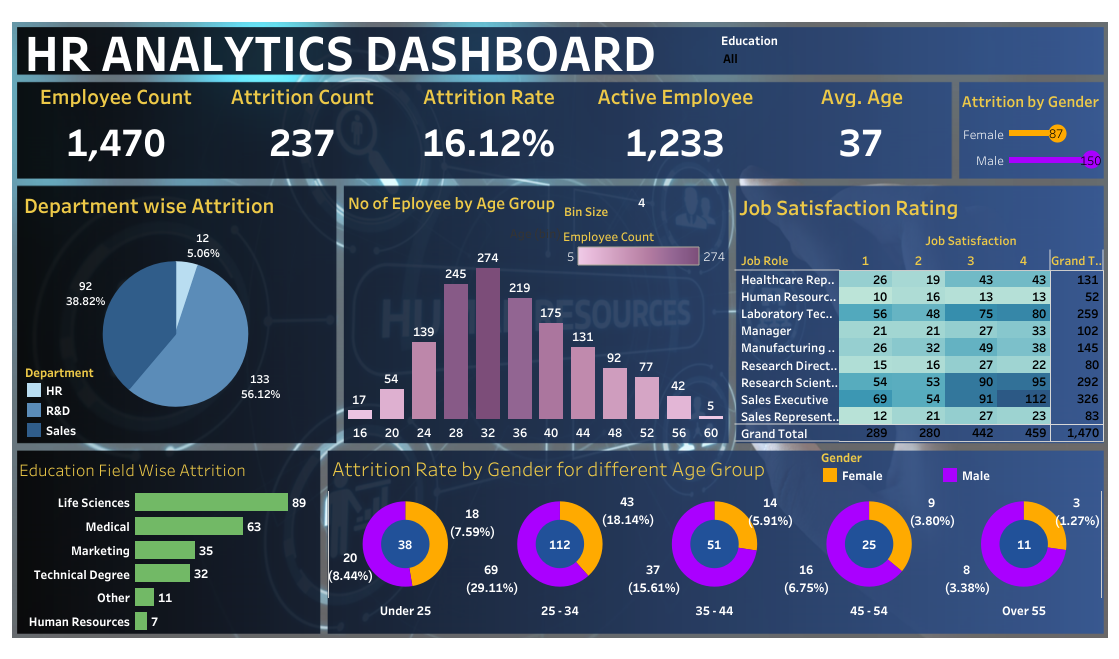

The page's visual inventory and layout, read from the dashboard file:
{"tool":"tableau","page":{"name":"HR ANALYSTICS DASHBOARD","canvas":[1000,1000],"units":"permille","ordinal":0},"visuals":[{"type":"image","param":"Image/HR background1.png","box":[7.1,12.1,985.7,975.8]},{"type":"text","box":[19.6,40.9,667.9,71.2]},{"type":"filter","title":"Department wise Attrition","param":"[federated.1485bsa0e8imti17utrk317bn2pd].[none:Education:nk]","box":[643.8,45.5,148.2,59.1]},{"type":"worksheet","title":"Attrition by Gender","mark":"Automatic","rows":["Gender"],"cols":["Calculation_531706296275054592","Calculation_531706296275054592"],"box":[854.5,127.3,132.1,134.8]},{"type":"worksheet","title":"KPI","mark":"Automatic","box":[20.5,130.3,832.1,136.4]},{"type":"worksheet","title":"Department wise Attrition","mark":"Pie","box":[17.6,280.3,278.3,386.4]},{"type":"worksheet","title":"No of Eployee by Age Group","mark":"Automatic","rows":["Employee Count"],"cols":["Age (bin)"],"box":[307.1,280.3,342,387.9]},{"type":"worksheet","title":"Job Satisfaction Rating","mark":"Square","rows":["Job Role"],"cols":["Job Satisfaction"],"box":[656.2,283.3,329.5,386.4]},{"type":"parameter","param":"[Parameters].[Parameter 1]","box":[503.6,292.4,145.5,53]},{"type":"legend","title":"No of Eployee by Age Group","param":"[federated.1485bsa0e8imti17utrk317bn2pd].[sum:Employee Count:qk]","box":[502.7,337.9,149.1,115.2]},{"type":"legend","title":"Department wise Attrition","param":"[federated.1485bsa0e8imti17utrk317bn2pd].[none:Department:nk]","box":[21.1,547,122.9,118.2]},{"type":"legend","title":"Attrition Rate by Gender for different Age Group","param":"[federated.1485bsa0e8imti17utrk317bn2pd].[none:Gender:nk]","box":[732.1,675.8,248.2,87.9]},{"type":"worksheet","title":"Attrition Rate by Gender for different Age Group","mark":"Pie","rows":["Calculation_531706297362907142","Calculation_531706297362907142"],"cols":["CF_age band"],"box":[293.2,680.3,690.9,278.8]},{"type":"worksheet","title":"Education Field Wise Attrition","mark":"Automatic","rows":["Education Field"],"cols":["Calculation_531706296275054592"],"box":[13.3,684.9,271.9,274.2]}]}

Visuals, with their boxes on the dashboard's canvas, which has no fixed pixel size, in thousandths of its width and height (x1, y1, x2, y2). These are canvas units, not pixel positions in the 1119x659 screenshot, which may show the page scaled, cropped or inside an application window:
image: bbox(7, 12, 993, 988)
text: bbox(20, 41, 688, 112)
"Department wise Attrition" filter: bbox(644, 46, 792, 105)
"Attrition by Gender" worksheet: bbox(854, 127, 987, 262)
"KPI" worksheet: bbox(20, 130, 853, 267)
"Department wise Attrition" worksheet (Pie marks): bbox(18, 280, 296, 667)
"No of Eployee by Age Group" worksheet: bbox(307, 280, 649, 668)
"Job Satisfaction Rating" worksheet (Square marks): bbox(656, 283, 986, 670)
parameter: bbox(504, 292, 649, 345)
"No of Eployee by Age Group" legend: bbox(503, 338, 652, 453)
"Department wise Attrition" legend: bbox(21, 547, 144, 665)
"Attrition Rate by Gender for different Age Group" legend: bbox(732, 676, 980, 764)
"Attrition Rate by Gender for different Age Group" worksheet (Pie marks): bbox(293, 680, 984, 959)
"Education Field Wise Attrition" worksheet: bbox(13, 685, 285, 959)
